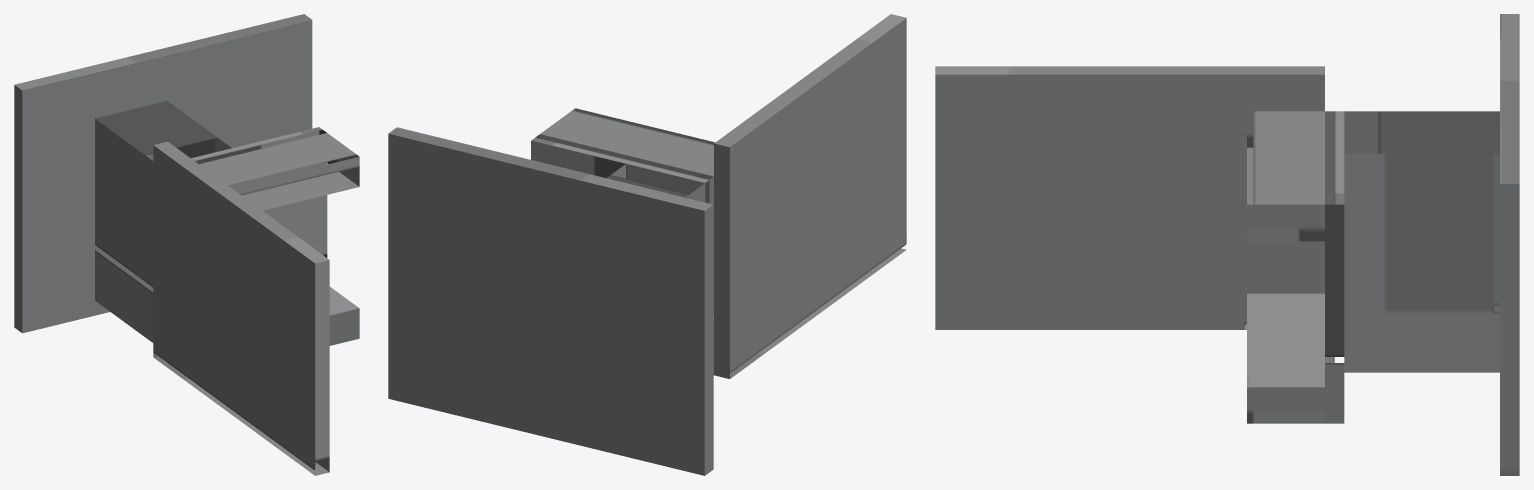
The picture shows the model from 3 angles, left to right: view 1: azimuth 30°, elevation 25°; view 2: azimuth 150°, elevation 25°; view 3: azimuth 270°, elevation 25°; orthographic projection. The views are drawn at different scales.
Size of the model in its own units: 0.925 by 0.74 by 1.34.
